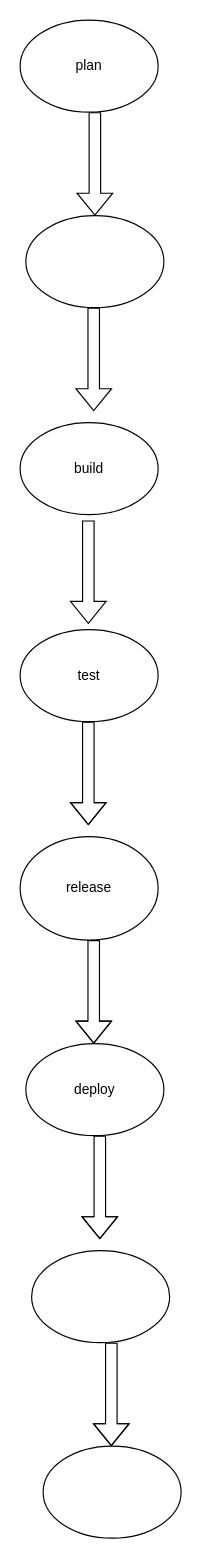
Some shapes in this 201 by 1558 pixel diagram are drawn without their labels. The shapes that lost their labels are listed below. From the top down, each one's centre as x and y in pixels, then its label:
the point at 94,261: develp
the point at 100,1296: operate
